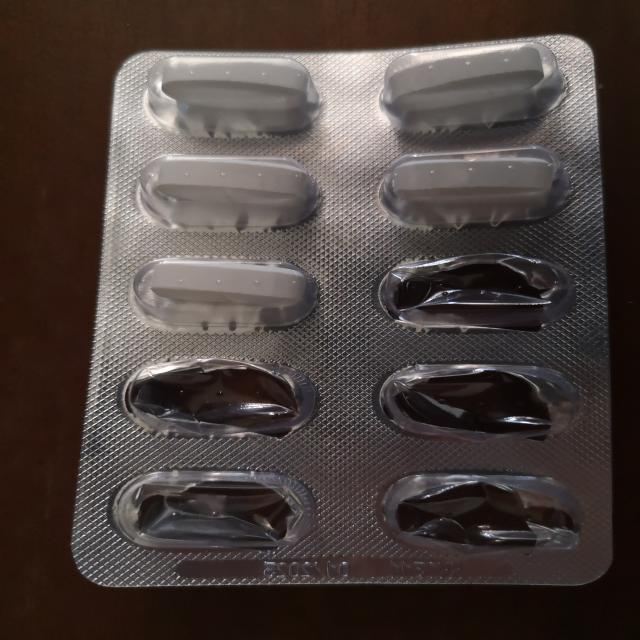Empty: (370, 468, 592, 557), (106, 465, 322, 556), (113, 352, 326, 444), (371, 246, 581, 338), (372, 357, 585, 447)
Pill: (372, 144, 578, 235), (374, 39, 567, 134), (135, 50, 327, 143), (124, 249, 326, 335), (132, 149, 323, 234)
